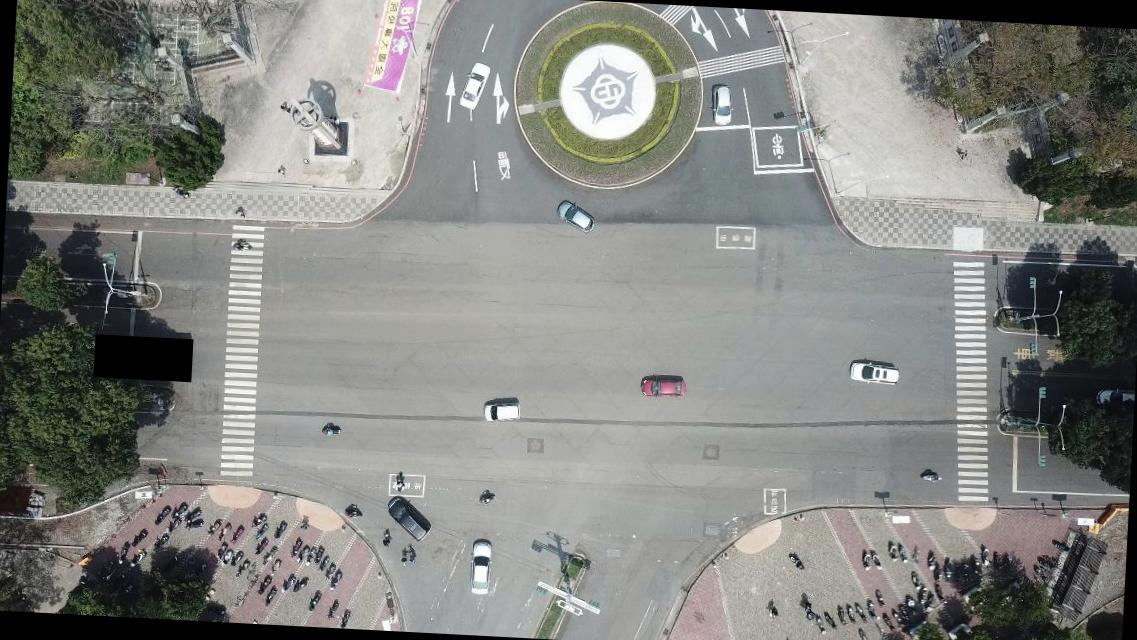vehicle: (386, 495, 433, 542), (466, 537, 494, 595), (847, 358, 900, 388), (458, 61, 490, 110), (554, 199, 596, 235), (638, 375, 687, 399), (482, 398, 522, 424), (710, 83, 732, 127)
